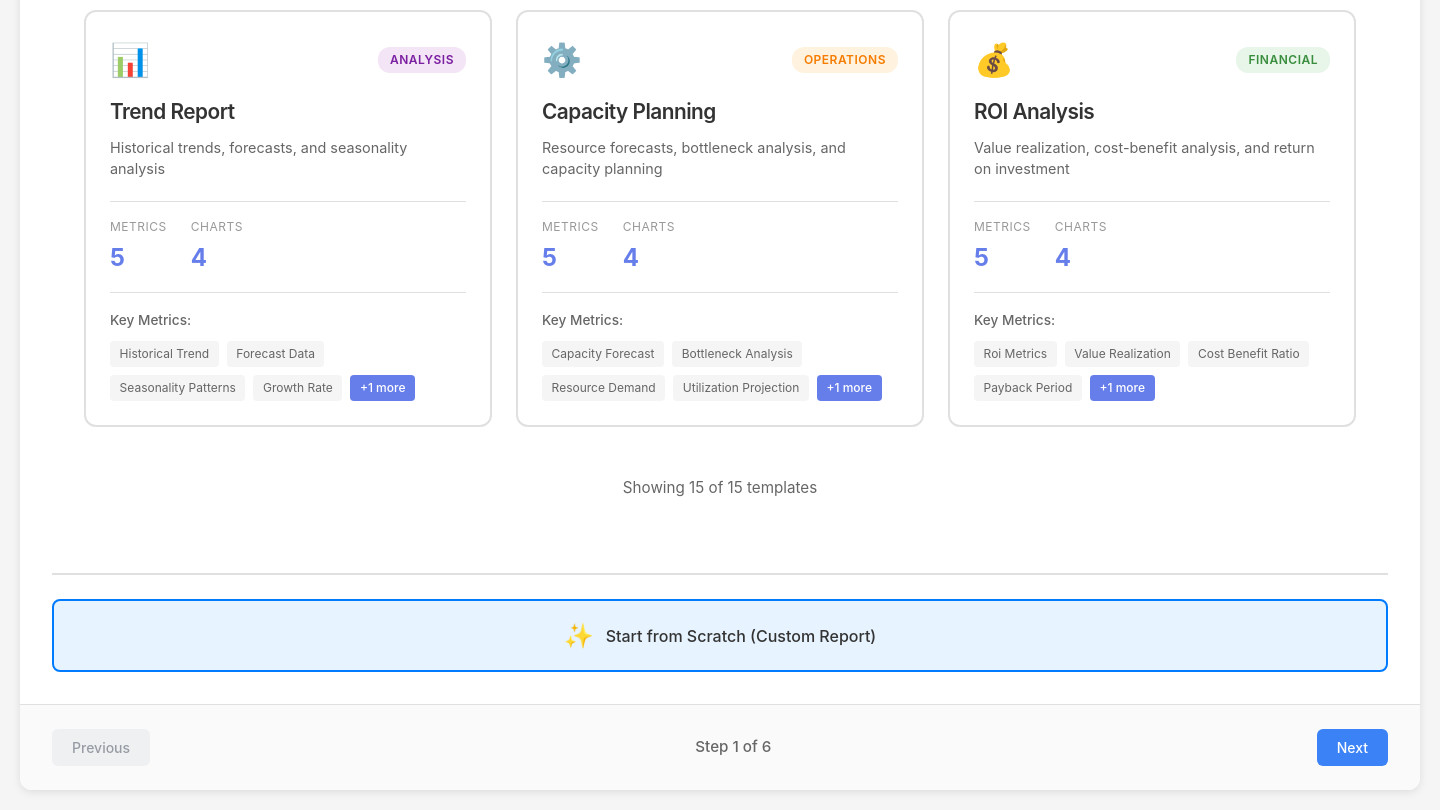
Test: ReportBuilder › navigates to next step when Next button is clicked
(page scrolled)
Click the button "Next" at (1352, 748), box [1317,729,1388,766]
(page scrolled)
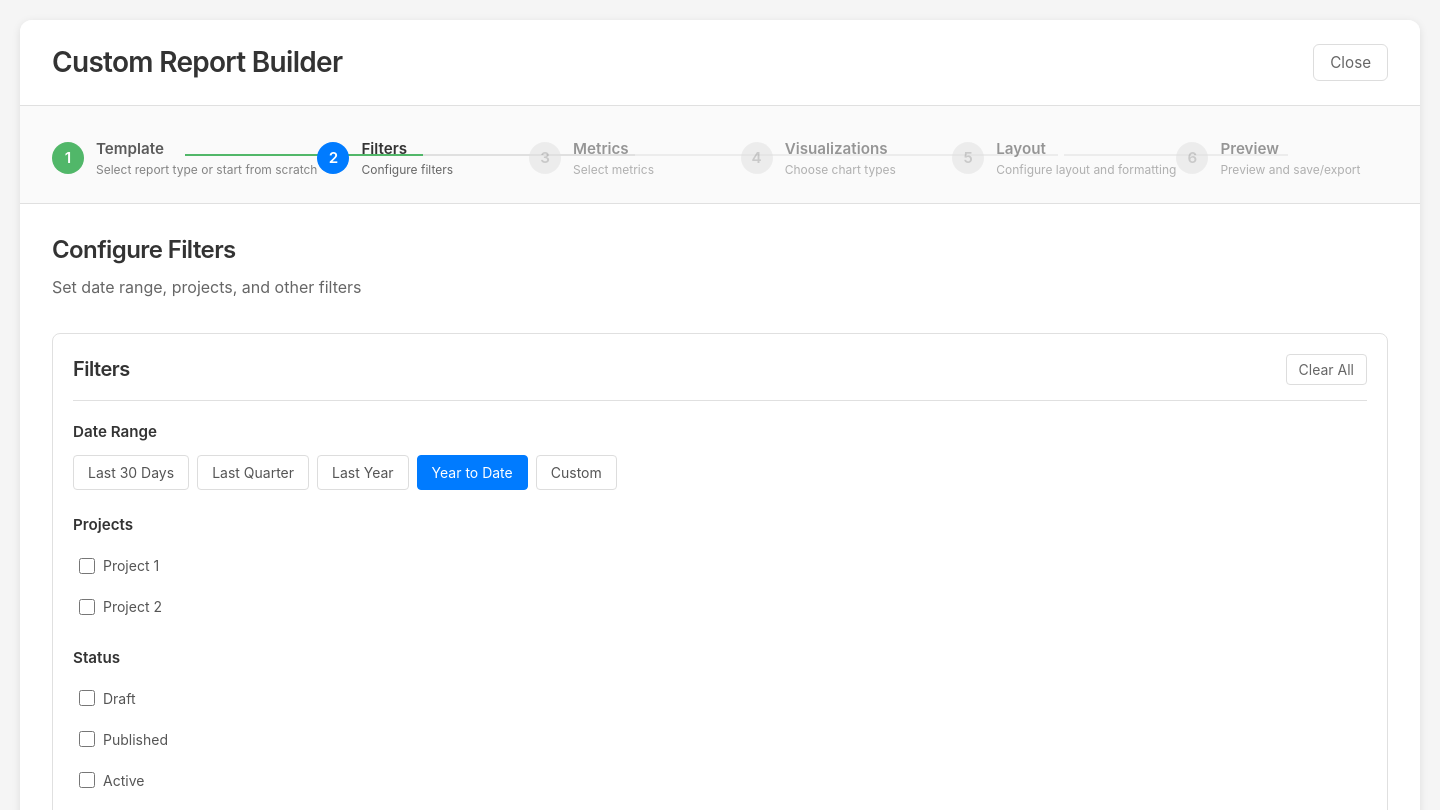
Expected: the heading "Configure Filters" is shown, [52,235,236,264]
Expected: the text "Set date range, projects, and other filters" is shown, [52,277,362,297]
